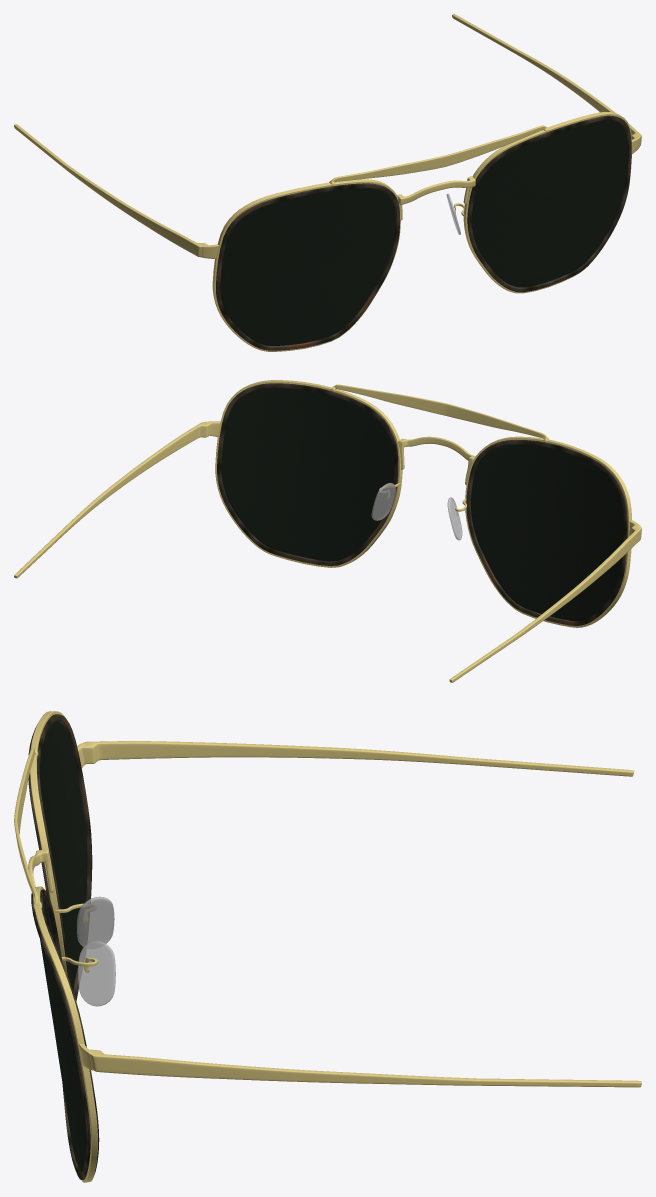
Rendered from MARSHALSOL_app.glb.
The picture shows the model from 3 angles, top to bottom: view 1: azimuth 30°, elevation 25°; view 2: azimuth 150°, elevation 25°; view 3: azimuth 270°, elevation 25°; orthographic projection. The views are drawn at different scales.
Visible parts, largest first — view 1: Lentes, armacao; view 2: Lentes, armacao, Pontes; view 3: armacao, Lentes, Pontes.
Boxes of the visible parts, left/top/right/bottom form: Lentes: left=220, top=120, right=627, bottom=345; armacao: left=14, top=14, right=641, bottom=351; Lentes: left=221, top=388, right=623, bottom=621; armacao: left=14, top=380, right=641, bottom=682; Pontes: left=371, top=483, right=462, bottom=540; armacao: left=14, top=711, right=641, bottom=1182; Lentes: left=40, top=721, right=87, bottom=1172; Pontes: left=77, top=896, right=115, bottom=1006.
Size of the model in its own units: 0.1441 by 0.0526 by 0.1165.
Materials: 4 (4 with a texture image).
